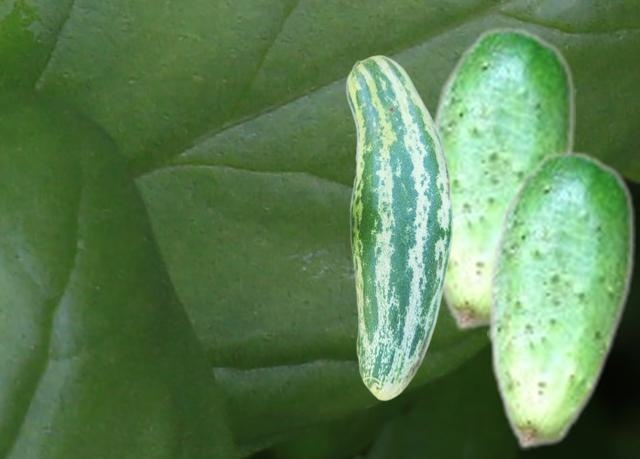cucumber: (429, 25, 574, 330), (487, 149, 634, 449), (345, 54, 452, 400)
